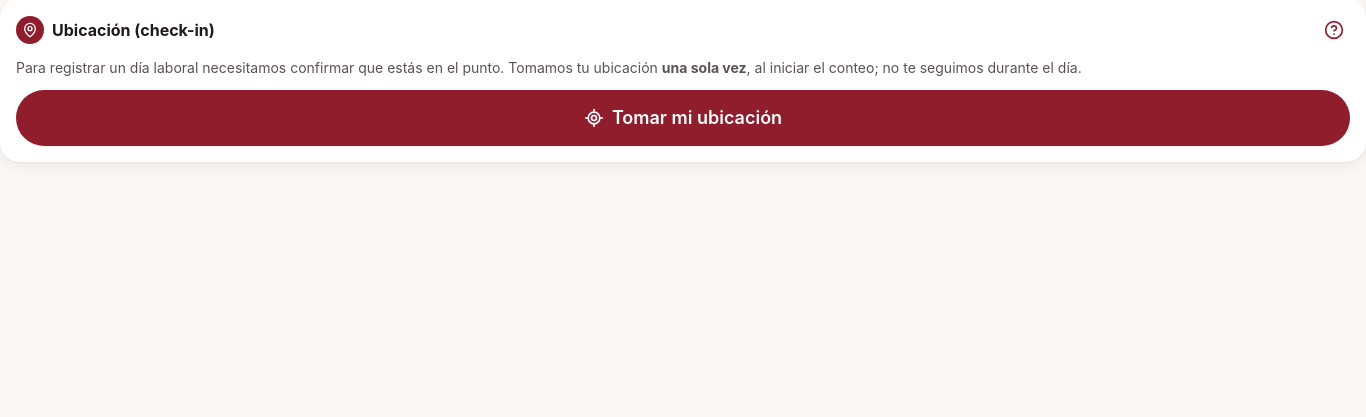
it: Check-in GPS › permiso denegado: muestra instrucciones, reintentar y NO entrega ubicación
Click the button "Tomar mi ubicación": [683, 118] box [16,90,1350,146]
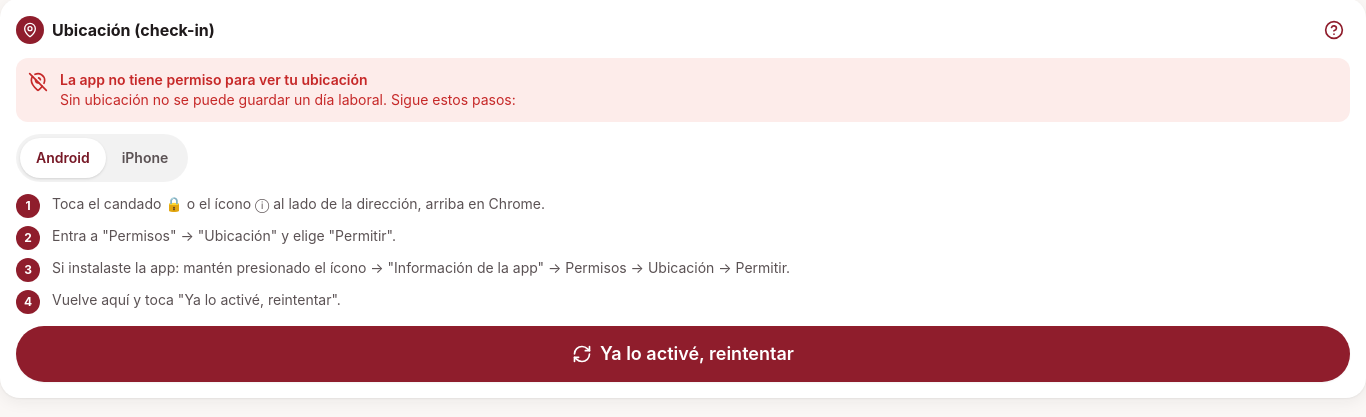
Now the text "La app no tiene permiso para ver tu ubicación" is shown, box [60,71,368,88]
Now the button "Ya lo activé, reintentar" is shown, box [16,326,1350,382]
Now the tab "Android" is shown, box [20,138,106,178]
